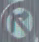Don't turn right: (3, 1, 38, 37)
